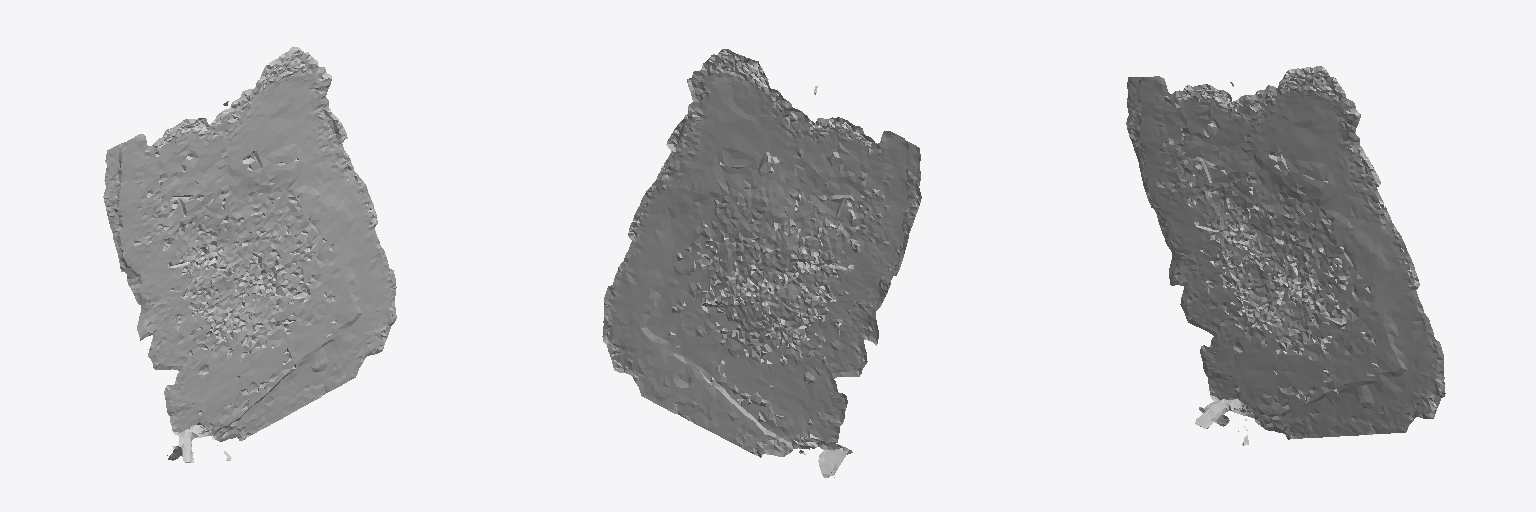
File: model_phy.obj
3 views of the same model, side by side, from view 1: azimuth 30°, elevation 25°; view 2: azimuth 150°, elevation 25°; view 3: azimuth 330°, elevation 25° (orthographic).
Visible parts, largest first — view 1: model; view 2: model; view 3: model.
Boxes of the visible parts, box(x1,y1,x2,y2) form: model: box(103, 47, 396, 462); model: box(602, 49, 921, 477); model: box(1126, 66, 1445, 445).
Bounding box in the file's own units: 103 × 128 × 15.79.